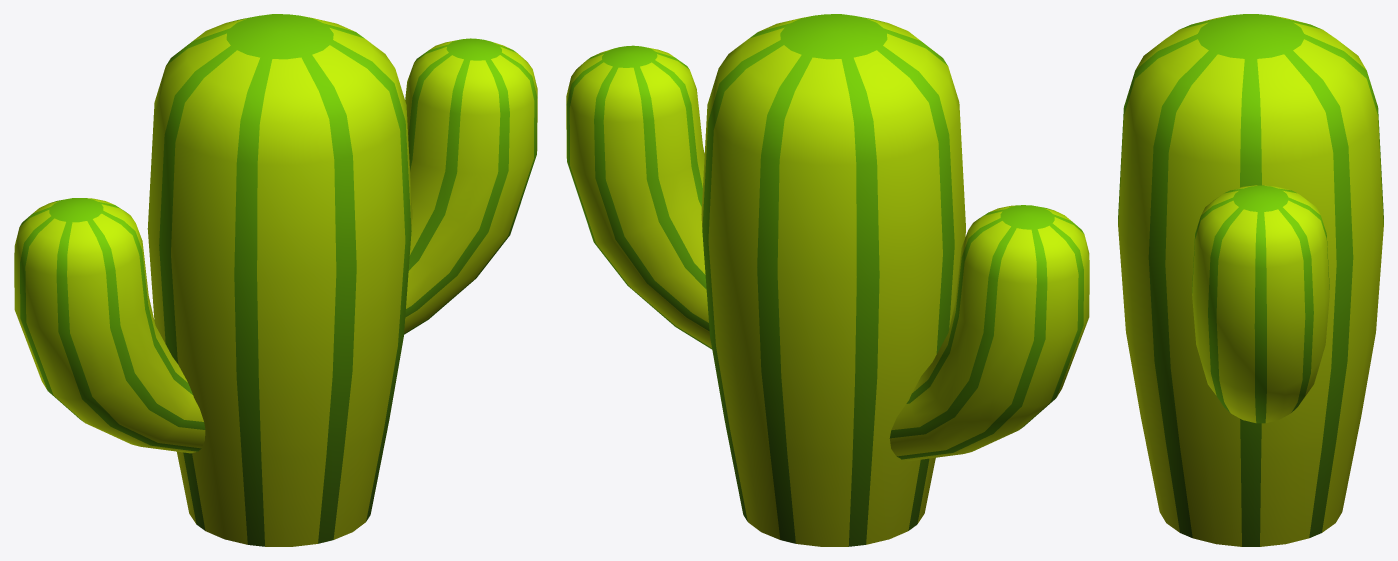
The model's file is Plant_Cactus_01.fbx.
The picture shows the model from 3 angles, left to right: view 1: azimuth 30°, elevation 25°; view 2: azimuth 150°, elevation 25°; view 3: azimuth 270°, elevation 25°; orthographic projection.
Parts seen in each view (by area): view 1: Plant_Cactus_01; view 2: Plant_Cactus_01; view 3: Plant_Cactus_01.
Boxes of the visible parts, x1,y1,x2,y2 form: Plant_Cactus_01: (14, 14, 537, 546); Plant_Cactus_01: (566, 14, 1089, 546); Plant_Cactus_01: (1118, 14, 1383, 546).
Bounding box in the file's own units: 119 × 107 × 54.22.
